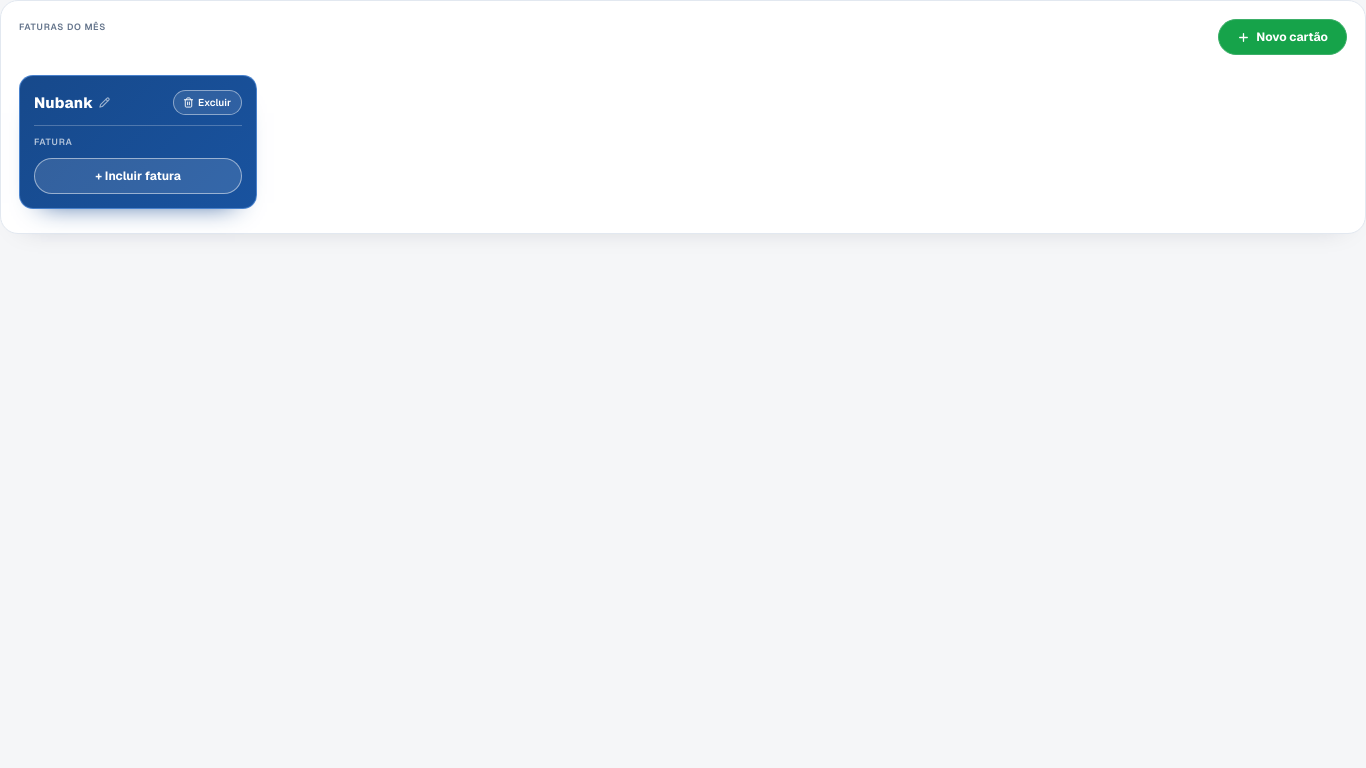
Test: MonthNav.tsx › does not render manual visual pickers for new cards
Click the button "Novo cartão" at (1283, 37), box [1218, 19, 1347, 55]
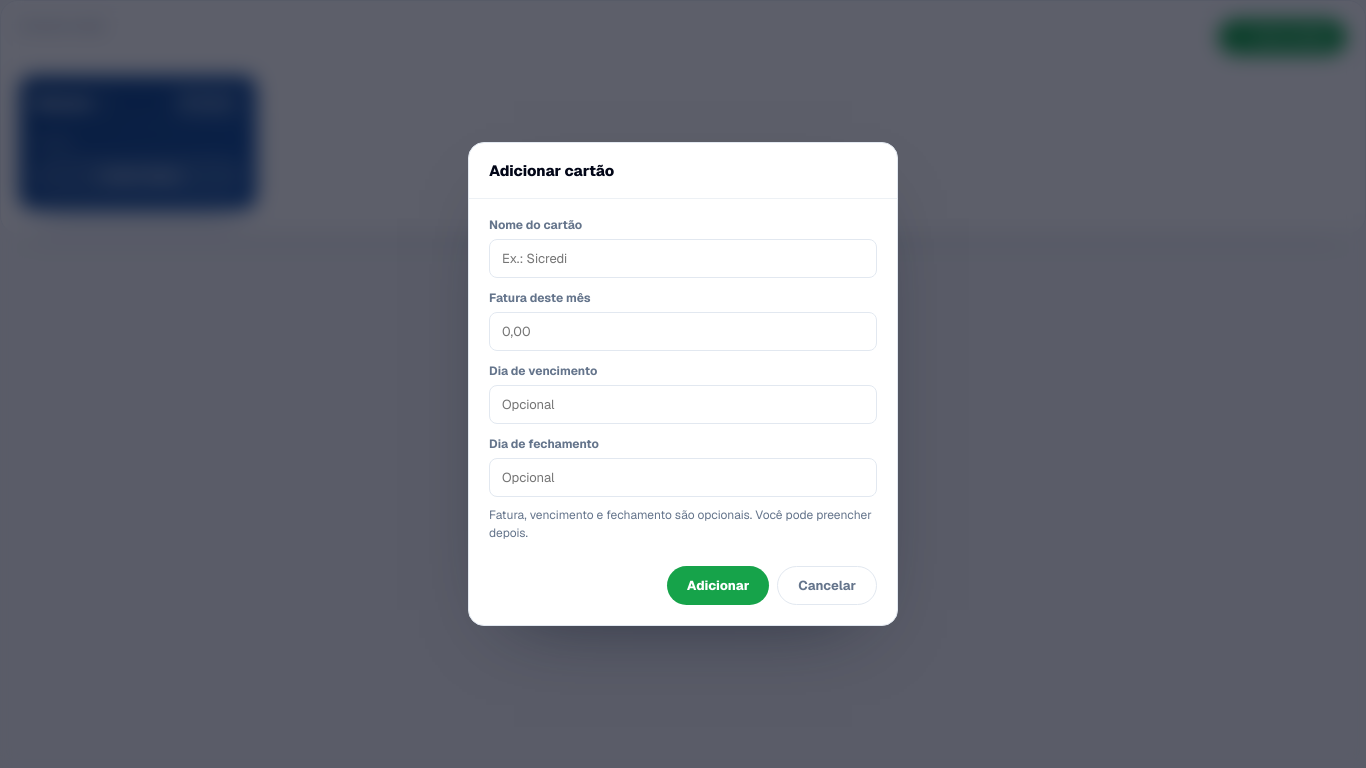
Expected: the text "Adicionar cartão" is shown, [469, 143, 897, 199]
